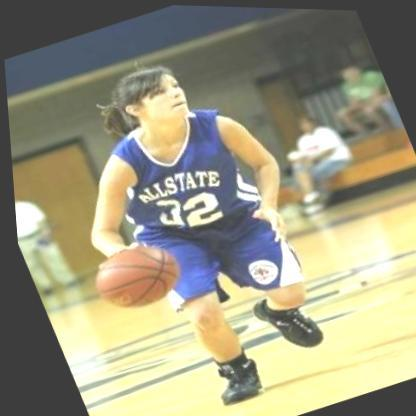basketball: (76, 228, 191, 324)
